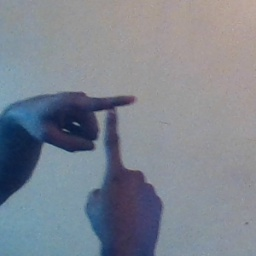T: (58, 82, 160, 204)
